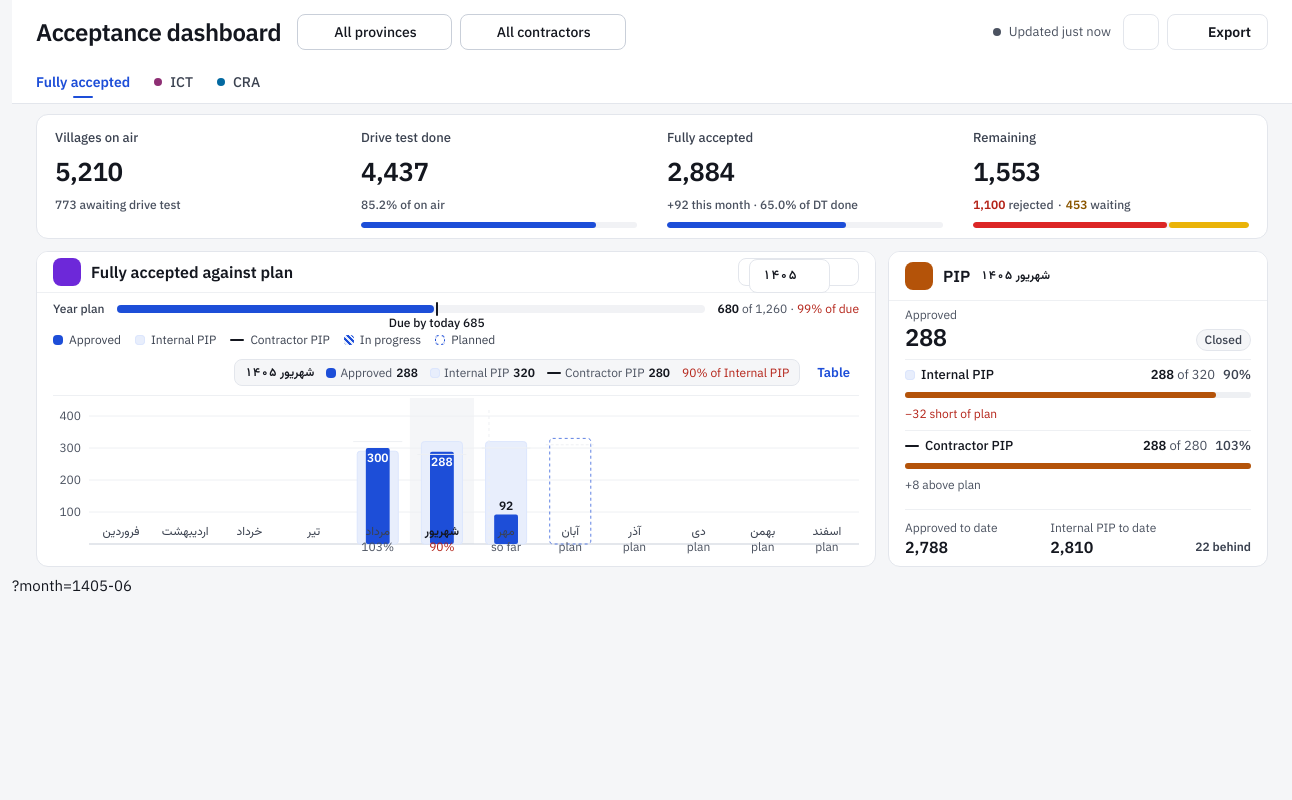
Test: the year › goes in the address and refetches when it changes
Click the dropdown named "Year".
click(790, 276)  # box [749,259,830,293]
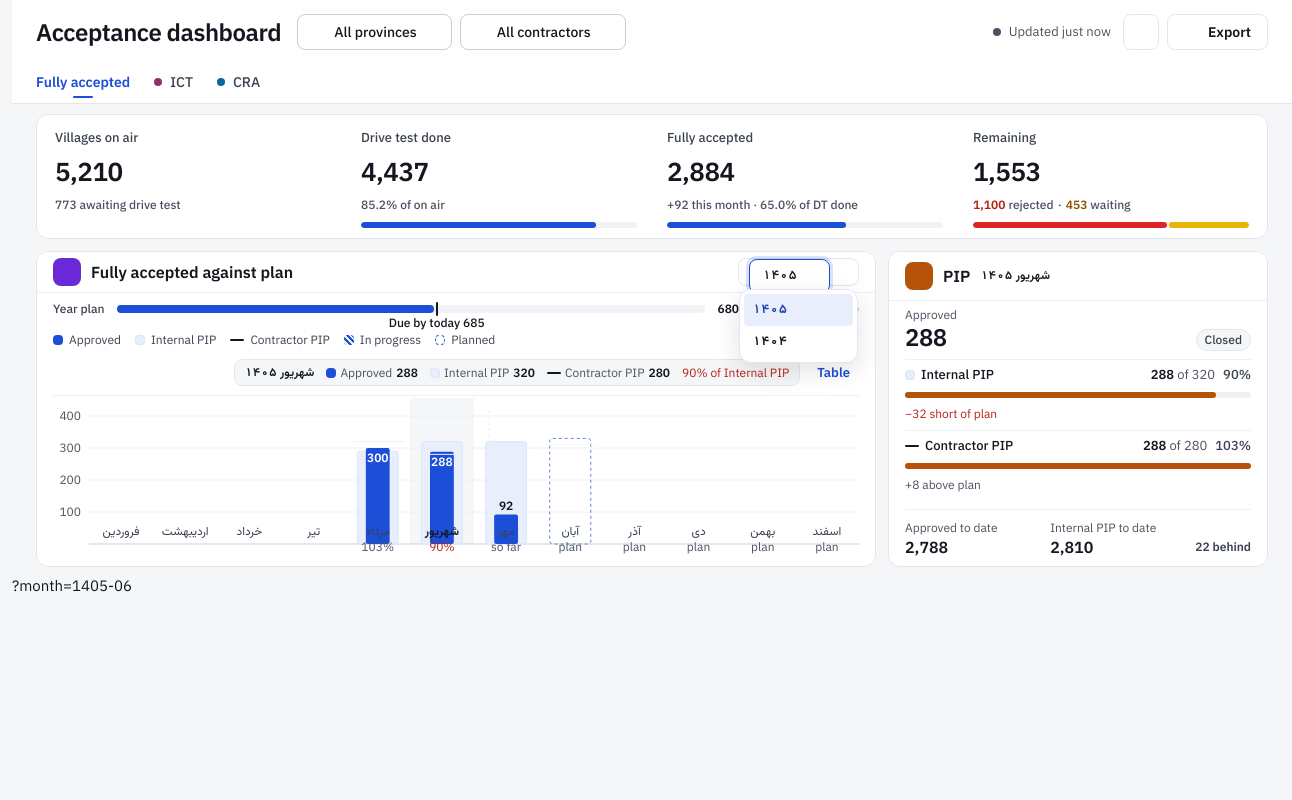
Click the option "۱۴۰۴".
click(770, 342)  # box [752,332,787,352]
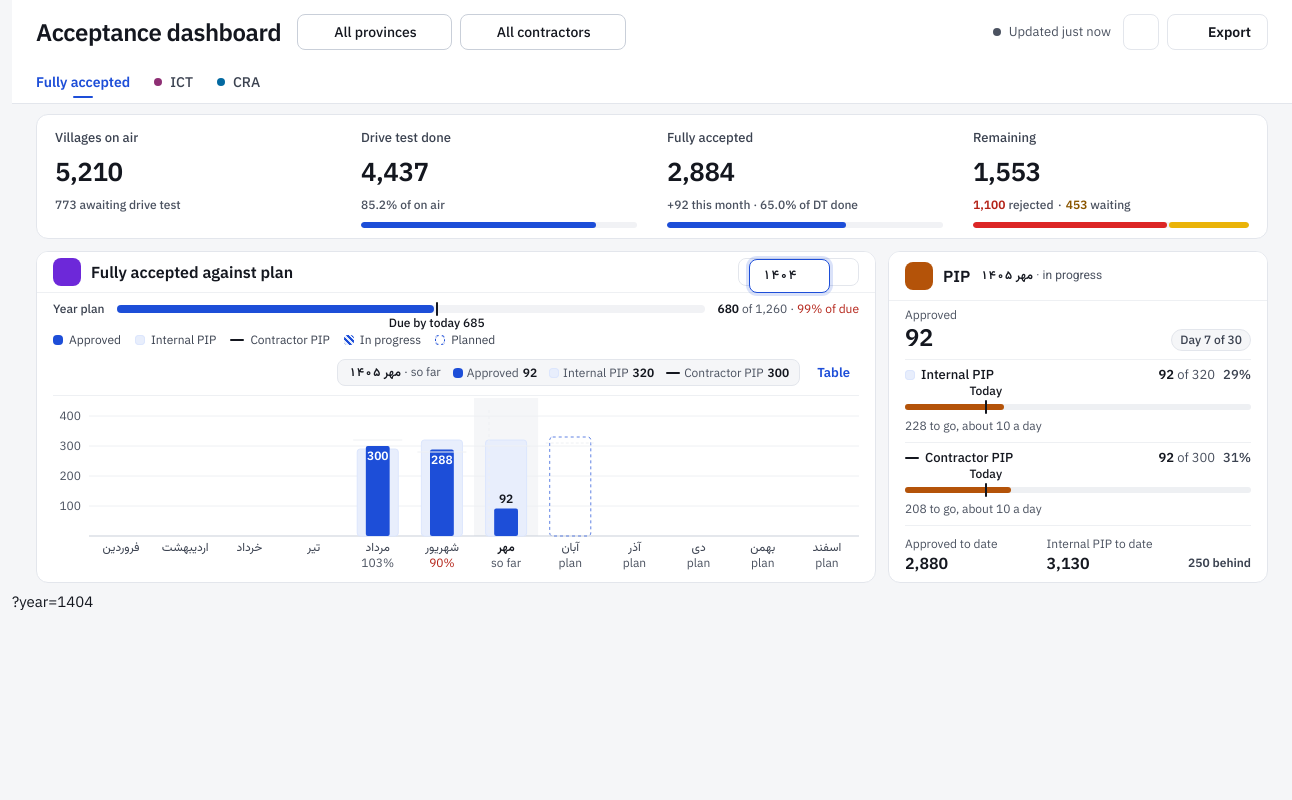
Now the text with test id "location" reads "?year=1404", box [12,592,93,611]
Now the text with test id "location" no longer shows "month=", box [12,592,93,611]
